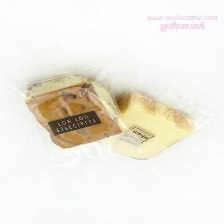snack: (0, 57, 146, 170), (83, 82, 211, 166)
